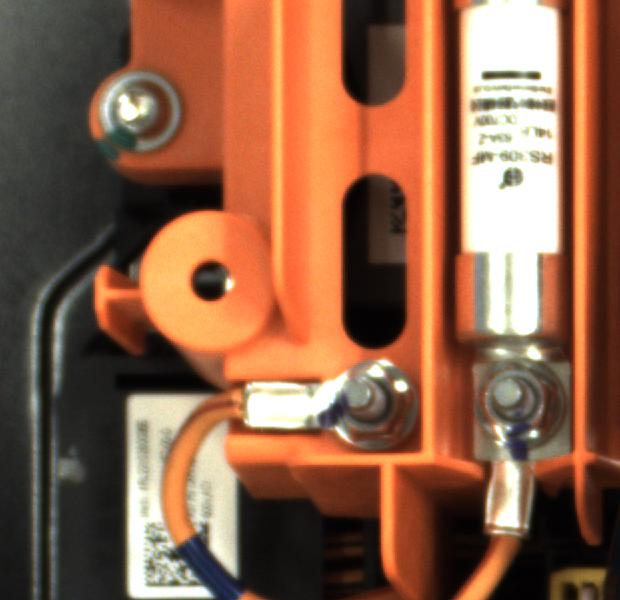screw_m: (79, 63, 206, 167)
screw_s: (468, 358, 572, 455), (323, 357, 415, 448)
